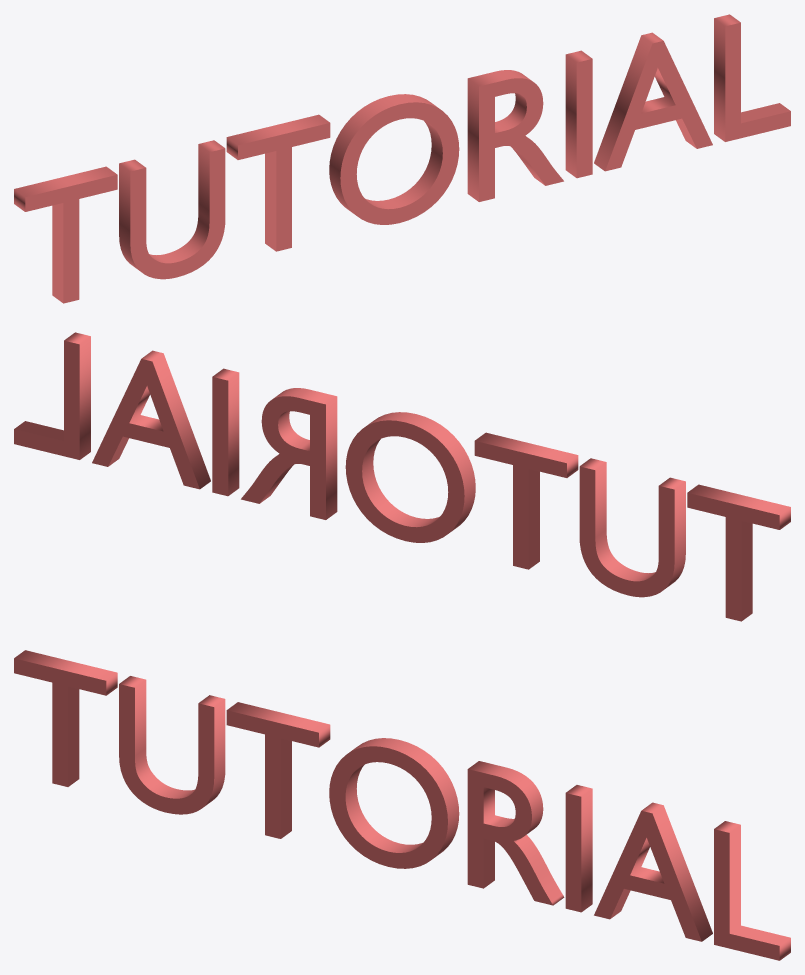
Rendered from tutorial.obj.
3 views of the same model, one above another, from view 1: azimuth 30°, elevation 25°; view 2: azimuth 150°, elevation 25°; view 3: azimuth 330°, elevation 25° (orthographic).
Visible parts, largest first — view 1: Text; view 2: Text; view 3: Text.
Boxes of the visible parts, bbox=[...] form: Text: bbox=[14, 14, 790, 303]; Text: bbox=[14, 332, 790, 621]; Text: bbox=[14, 650, 790, 960].
Size of the model in its own units: 4.72 by 0.7 by 0.12.
